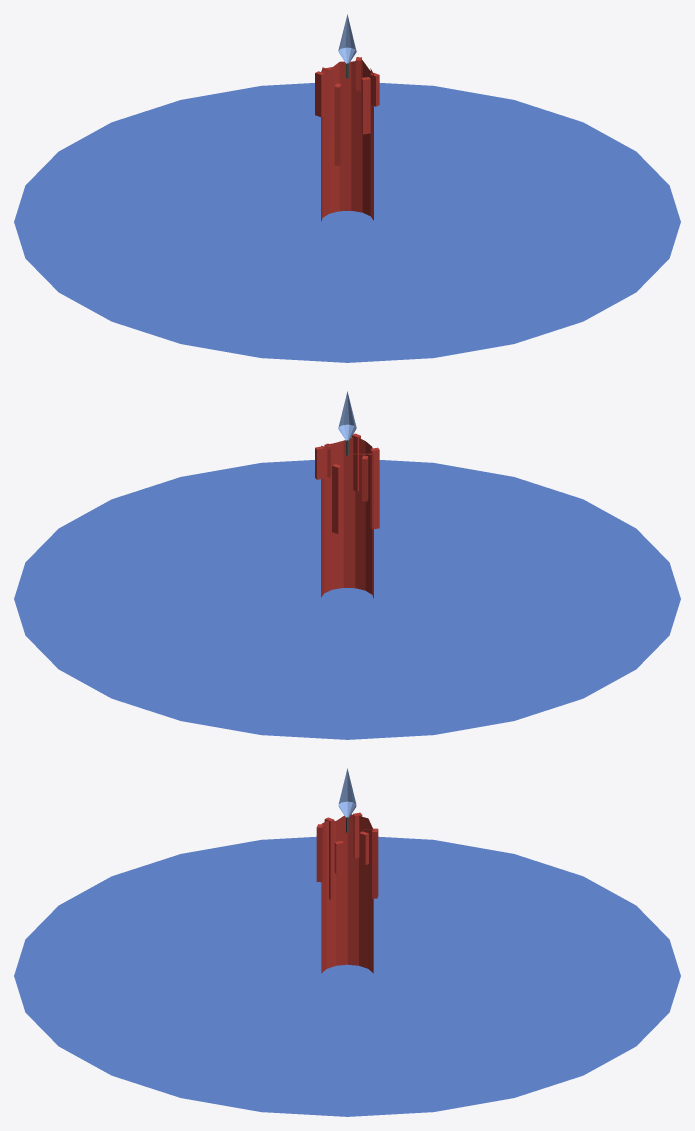
Rendered from ritualkerze.glb.
The picture shows the model from 3 angles, top to bottom: view 1: azimuth 30°, elevation 25°; view 2: azimuth 150°, elevation 25°; view 3: azimuth 270°, elevation 25°; orthographic projection.
Parts seen in each view (by area): view 1: ritualkerze; view 2: ritualkerze; view 3: ritualkerze.
Part boxes in pixels (x1,y1,x2,y2): ritualkerze: [14, 14, 680, 362]; ritualkerze: [14, 391, 680, 739]; ritualkerze: [14, 768, 680, 1116].
Size of the model in its own units: 1 by 0.35 by 1.
